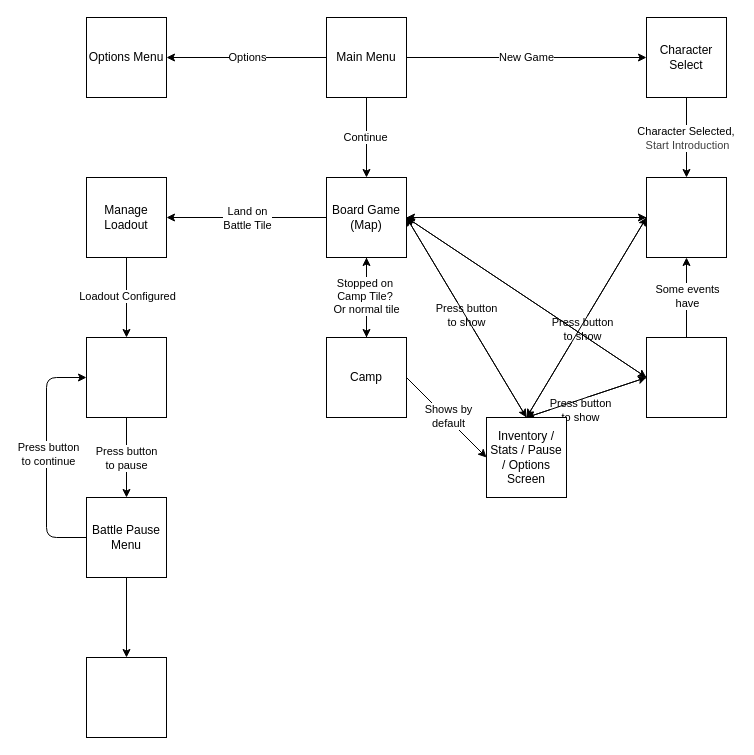
Image size: 754x755. Some labels were removed from this diagram. Here are the shapes that lost their labels. From the top down, the centre of each, then its label:
At (x=686, y=217): "Dialogue".
At (x=126, y=377): "Auto-Battle".
At (x=686, y=377): "Event".
At (x=126, y=697): "Battle-specific Options Menu".
